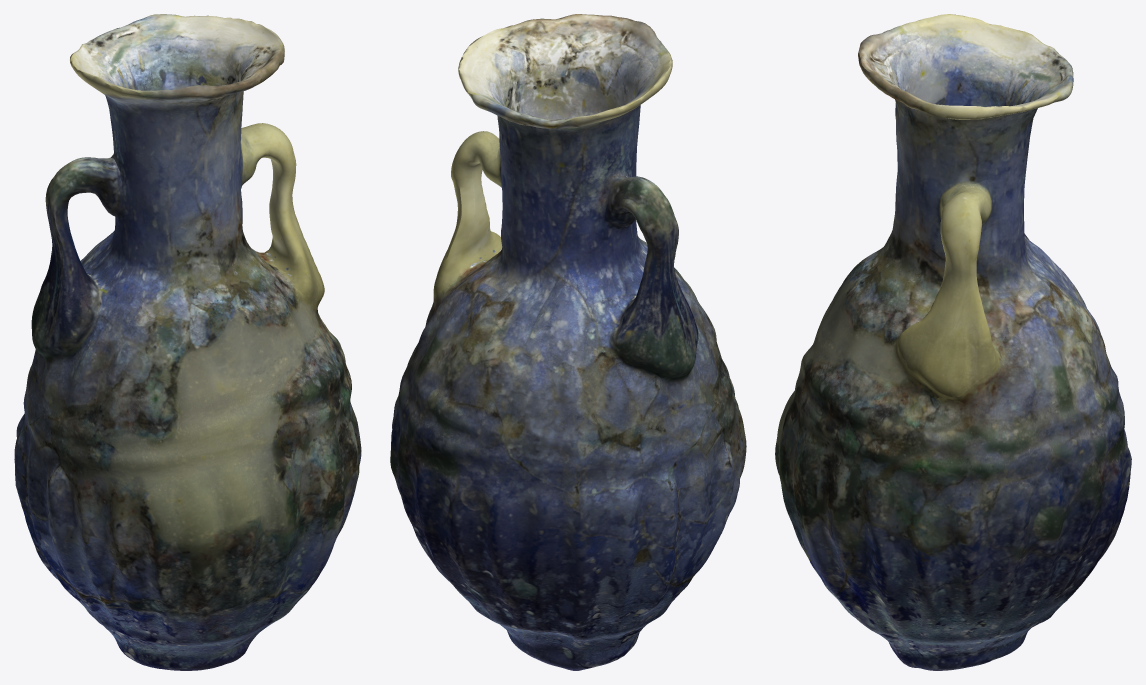
The model's file is small_roman_glass_bottle_dibba_al-hisn_sharjah.glb.
3 renders of one model, left to right at view 1: azimuth 30°, elevation 25°; view 2: azimuth 150°, elevation 25°; view 3: azimuth 270°, elevation 25°, orthographic.
Parts seen in each view (by area): view 1: Object_2, Object_4, Object_3; view 2: Object_2, Object_3, Object_4; view 3: Object_2, Object_3, Object_4.
Part boxes in pixels (left/top/right/bottom): Object_2: left=14, top=313, right=361, bottom=670; Object_4: left=35, top=131, right=322, bottom=401; Object_3: left=31, top=14, right=324, bottom=356; Object_2: left=390, top=312, right=746, bottom=670; Object_3: left=433, top=14, right=698, bottom=378; Object_4: left=421, top=147, right=717, bottom=418; Object_2: left=775, top=333, right=1131, bottom=670; Object_3: left=858, top=14, right=1073, bottom=397; Object_4: left=817, top=147, right=1106, bottom=404.
Bounding box in the file's own units: 0.307 × 0.5825 × 0.3112.
Materials: 1 (1 with a texture image).
